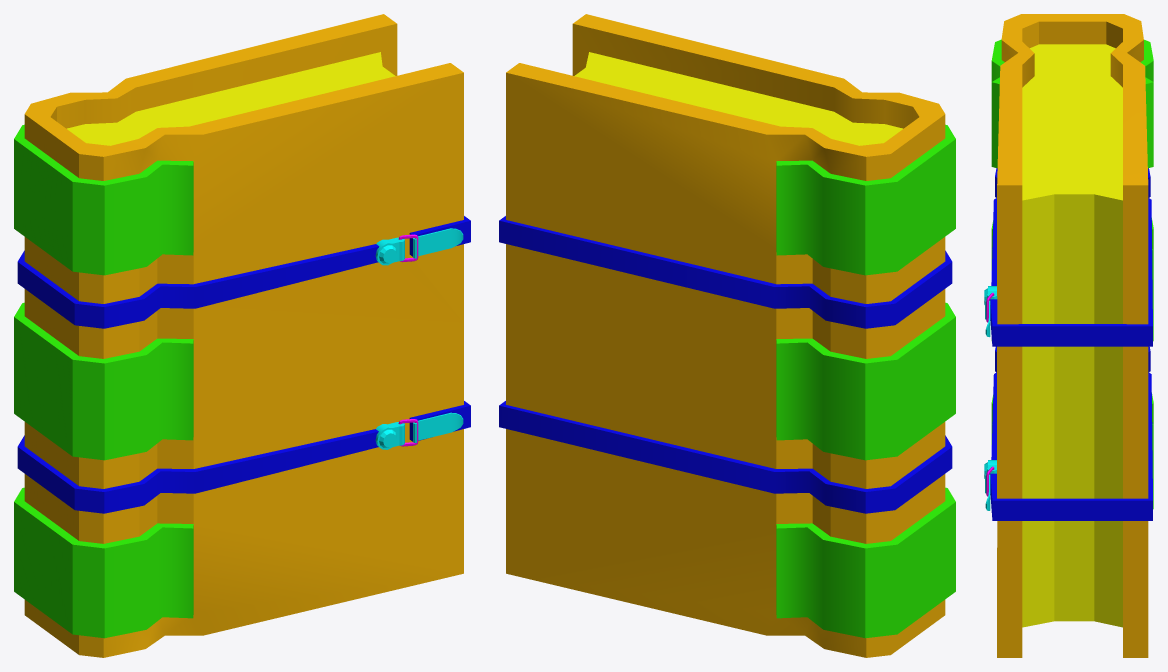
The model's file is prop_necronomicon_low.fbx.
3 renders of one model, left to right at view 1: azimuth 30°, elevation 25°; view 2: azimuth 150°, elevation 25°; view 3: azimuth 270°, elevation 25°, orthographic. The views are drawn at different scales.
Visible parts, largest first — view 1: prop_necronomicon_low; view 2: prop_necronomicon_low; view 3: prop_necronomicon_low.
Boxes of the visible parts, x1=… form: prop_necronomicon_low: x1=14, y1=14, x2=470, y2=657; prop_necronomicon_low: x1=499, y1=14, x2=955, y2=657; prop_necronomicon_low: x1=984, y1=14, x2=1153, y2=657.
Bounding box in the file's own units: 34.38 × 42.76 × 13.9.
